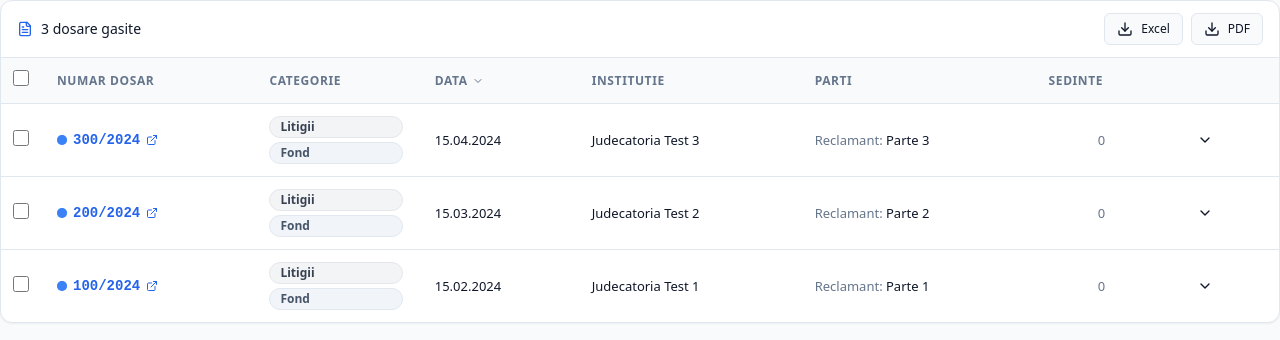
Test case: DosareTable — characterization (render + state) › toggle sort pe coloana 'Numar Dosar' inverseaza directia
What coordinates should you click on to do the following:
click the column heading "Numar Dosar"
I would click on:
 (147, 81)
Its box is [41,58,253,104].
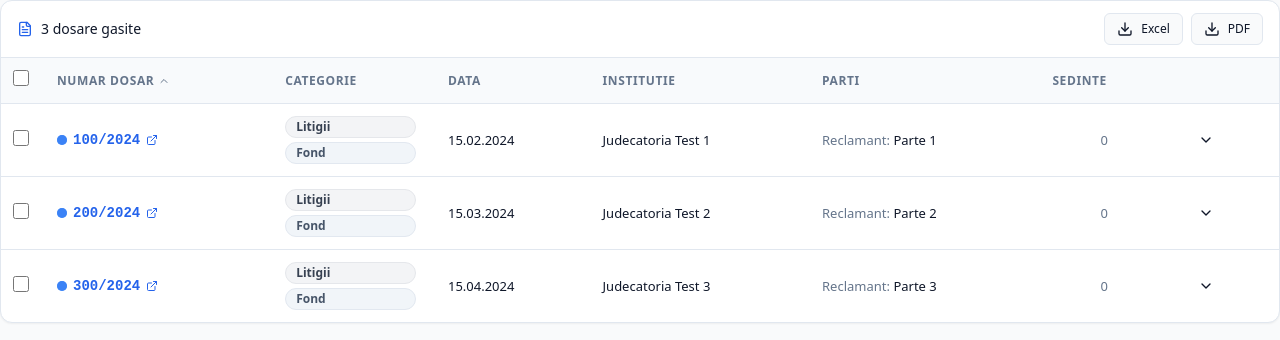
expect the 2nd row shows "100/2024": met, box [73,130,158,150]
What coordinates should you click on to do the following:
click the column heading "Numar Dosar"
I would click on:
 (155, 81)
Its box is [41,58,269,104].
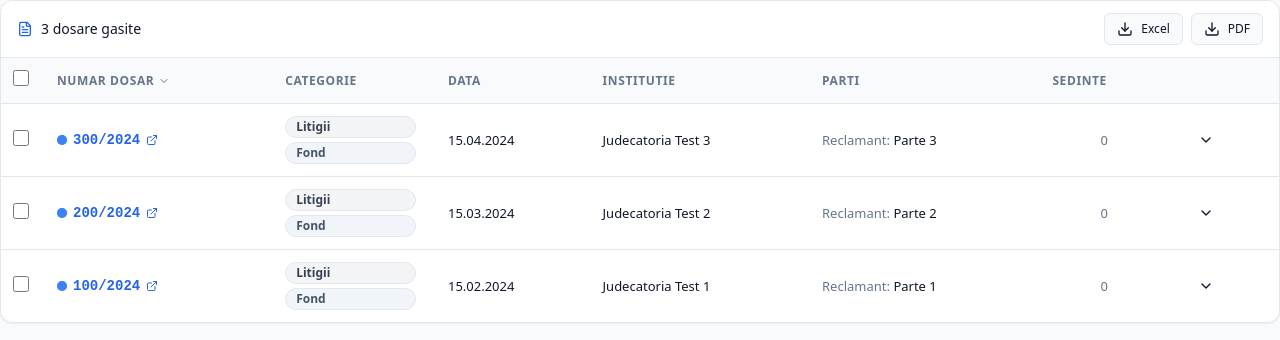
expect the 2nd row shows "300/2024": met, box [73,130,158,150]
